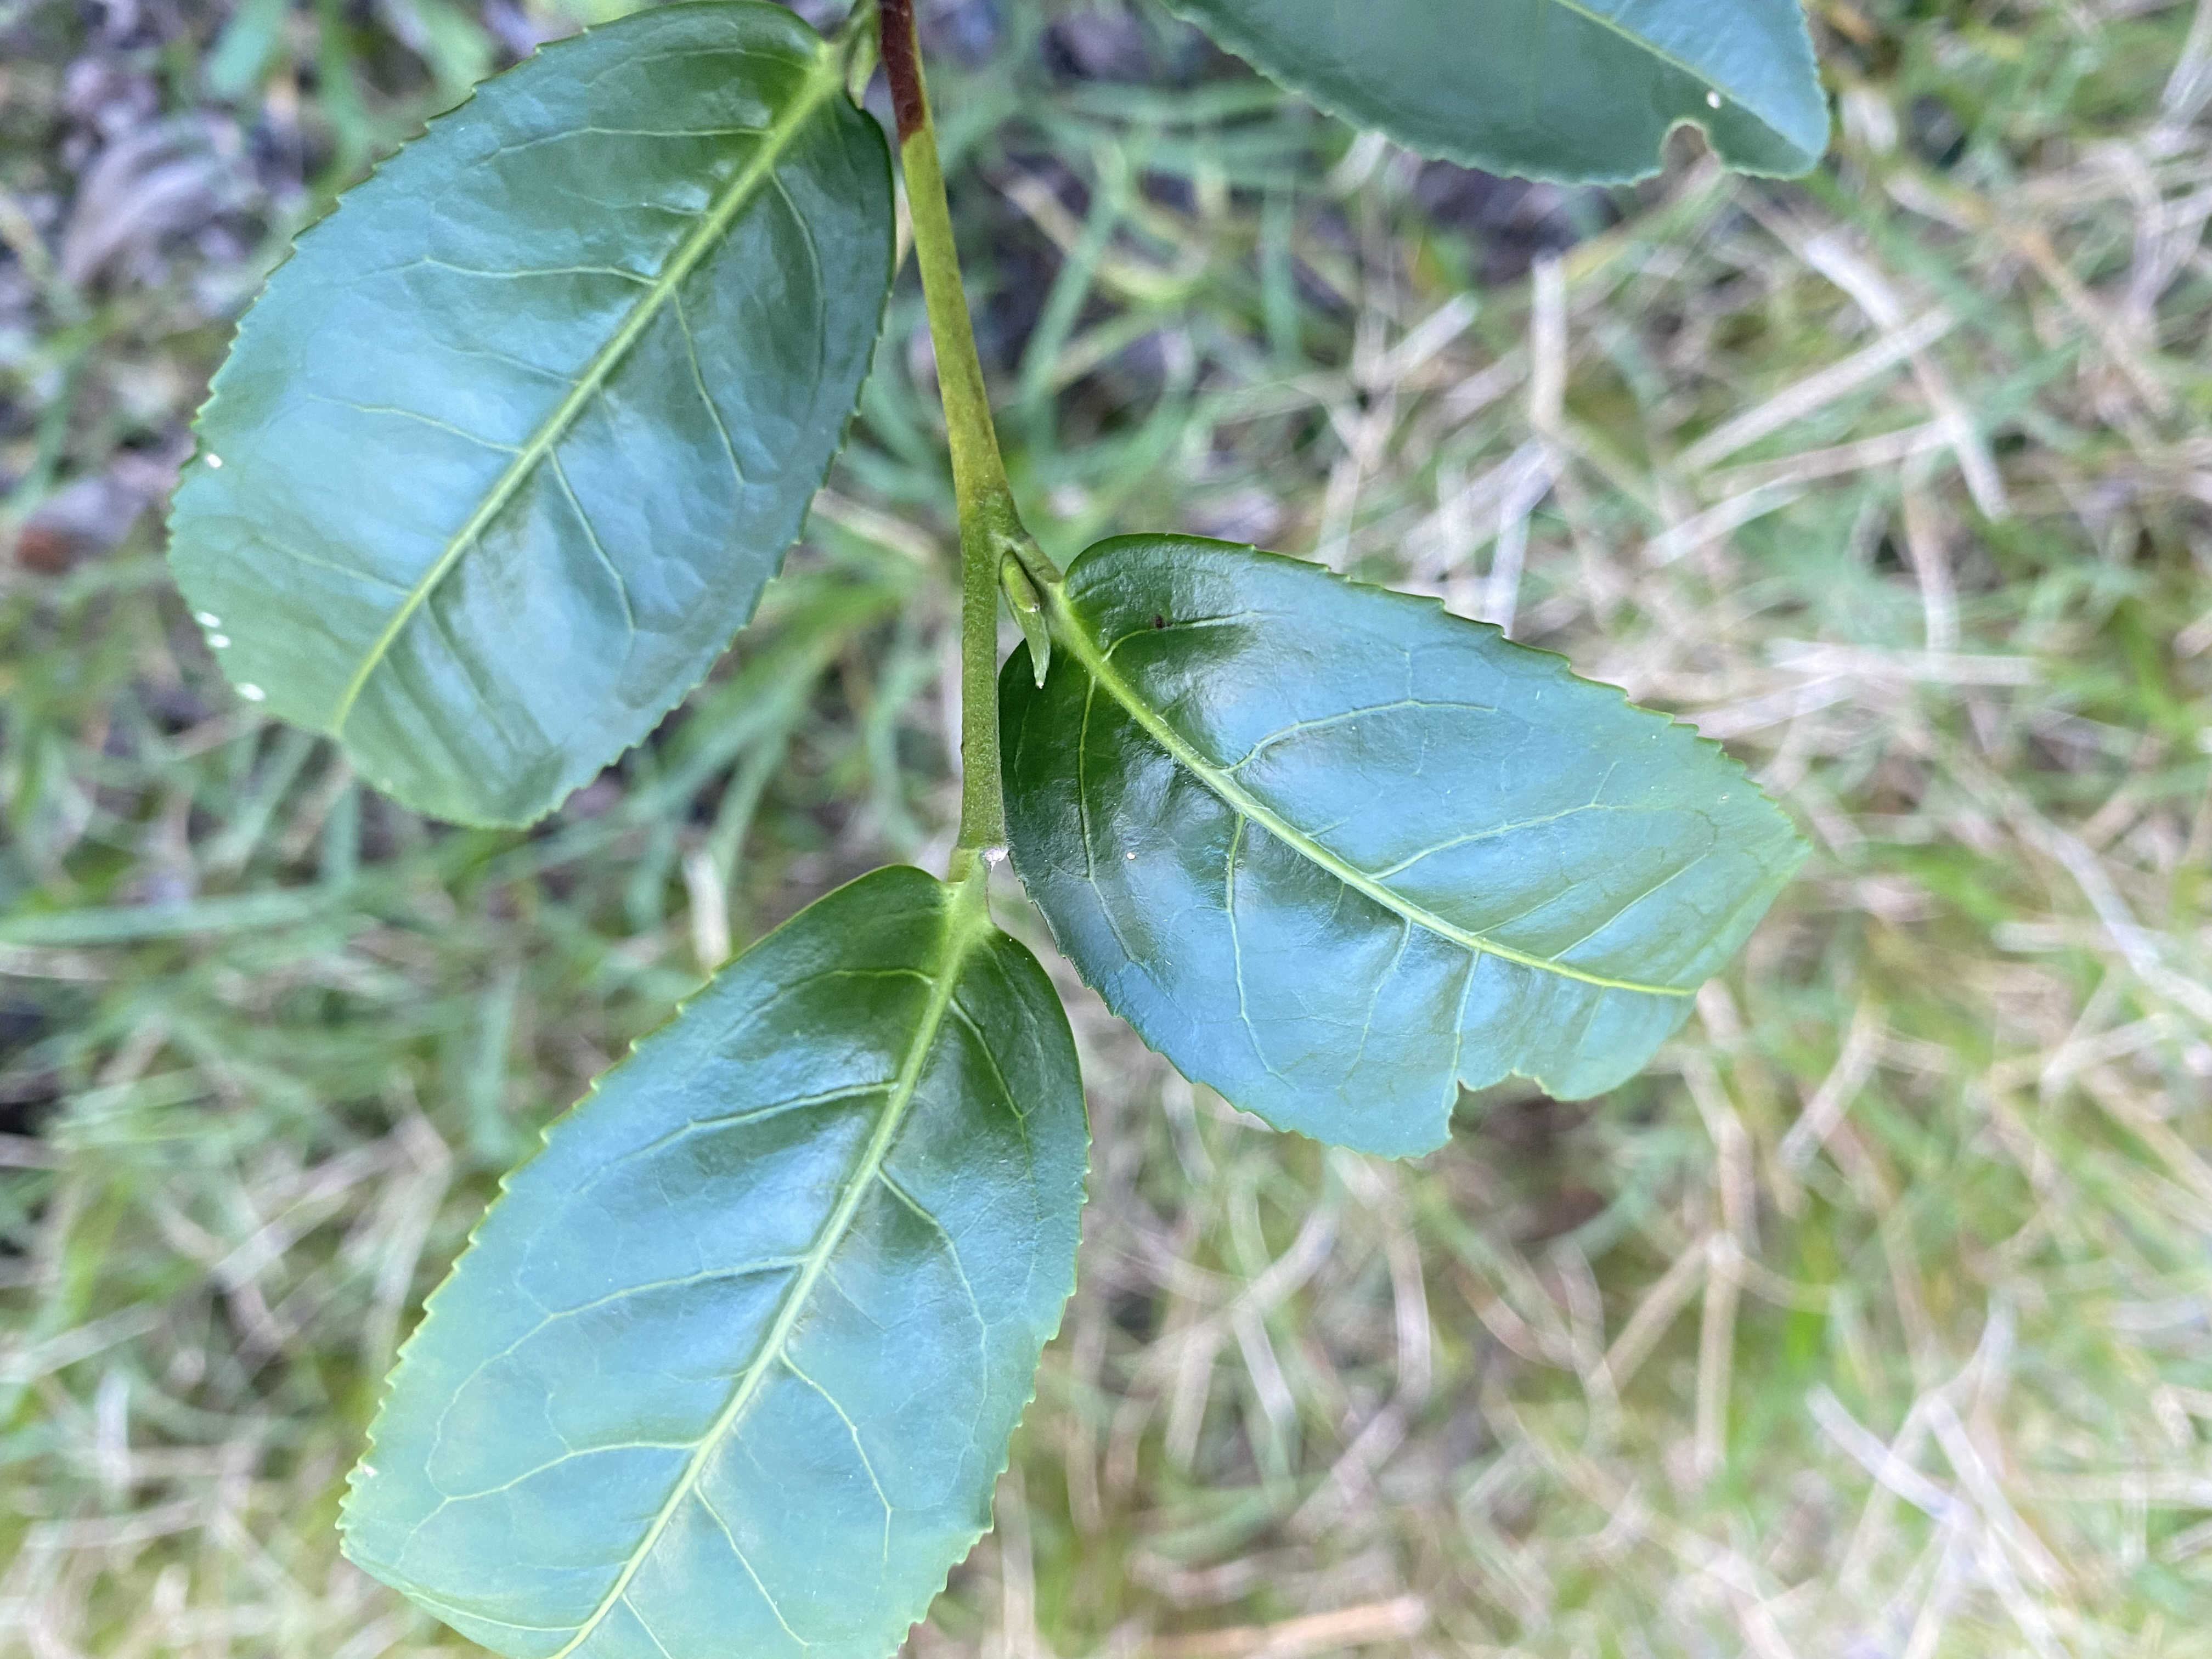chihuo_low: (998, 533, 1822, 1159), (1162, 2, 1836, 186)
healthy: (338, 857, 1092, 1656)
tanju_low: (157, 2, 899, 830)
